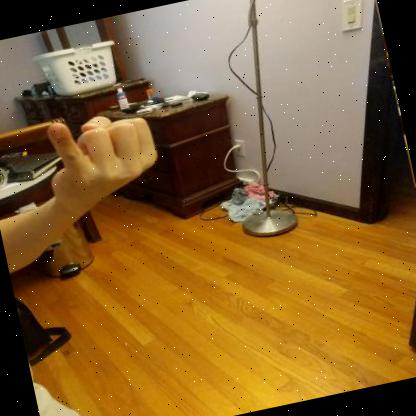J: (46, 115, 157, 220)
